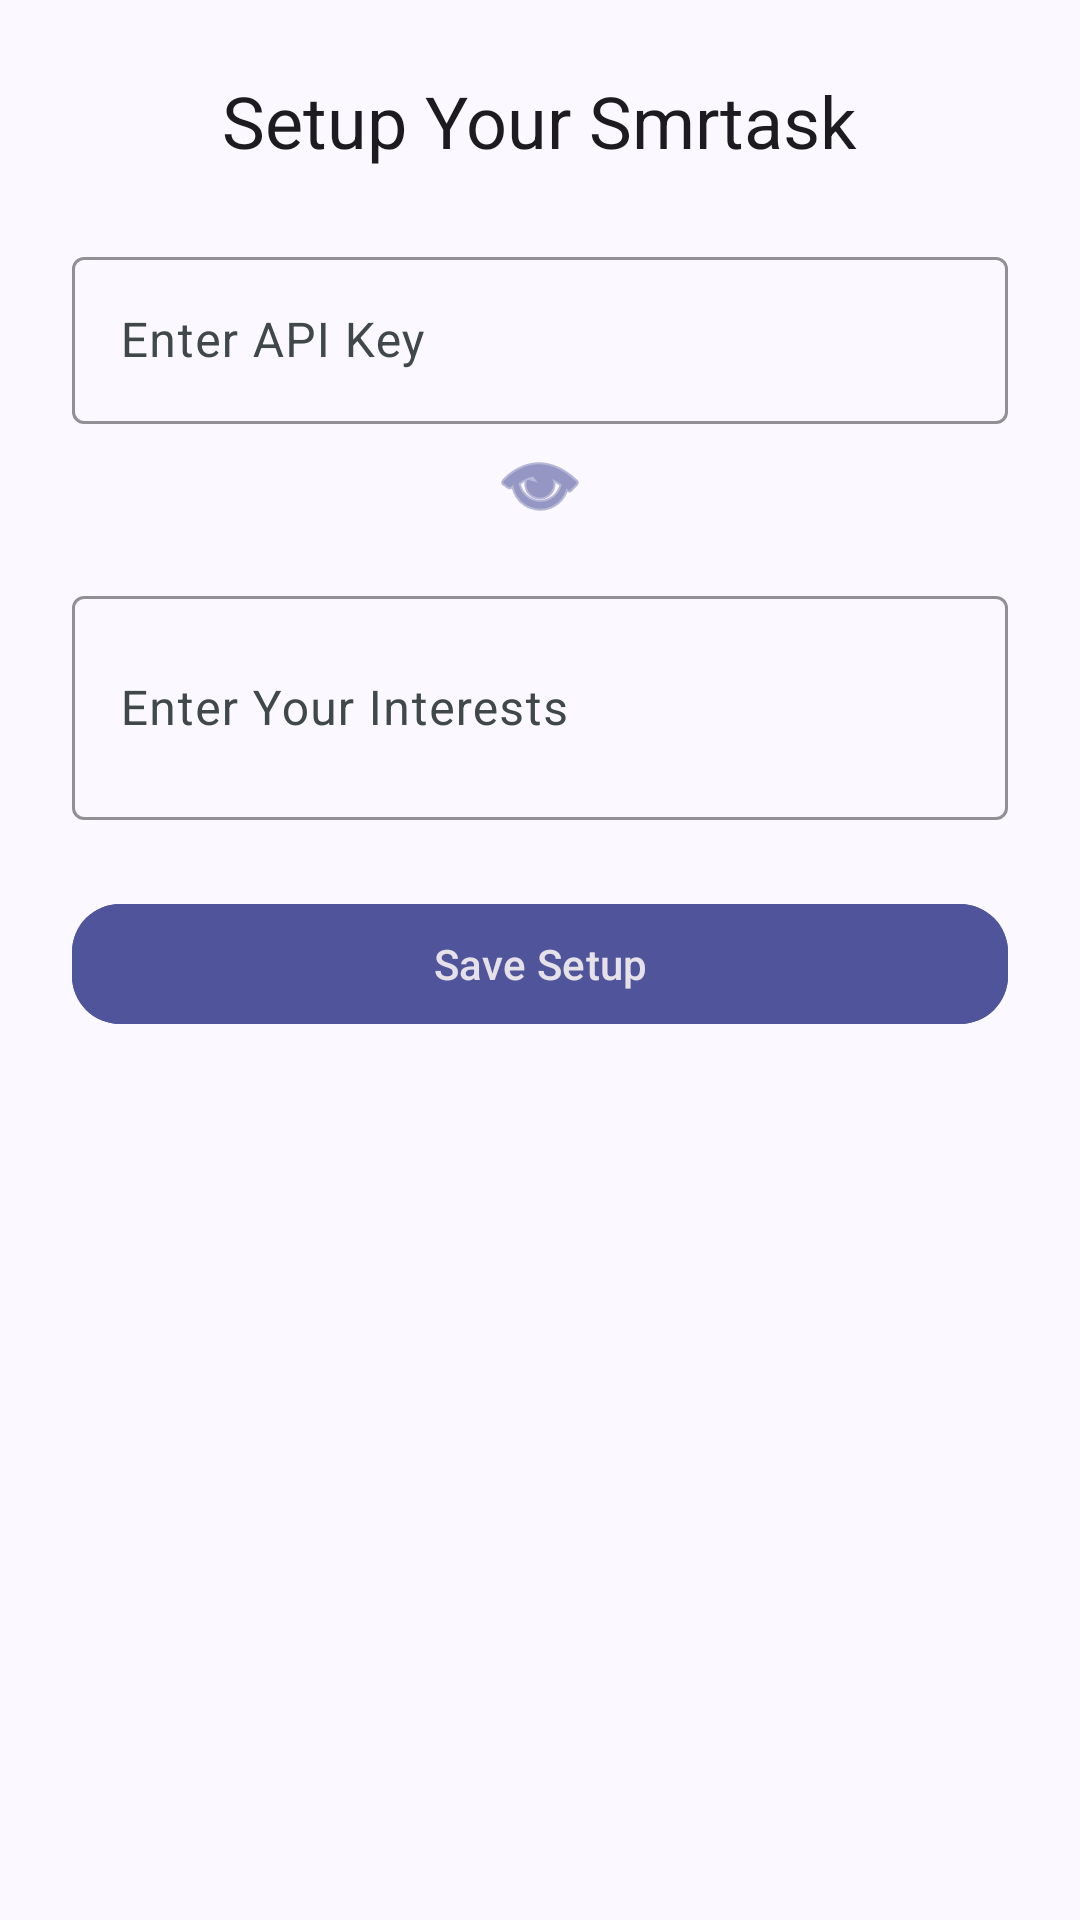

Icons on this 1080x1920 Android screen, each with its box as [left=x1, top=y1, right=x2, bottom=y2]:
Toggle Password Visibility: [left=501, top=462, right=579, bottom=511]
